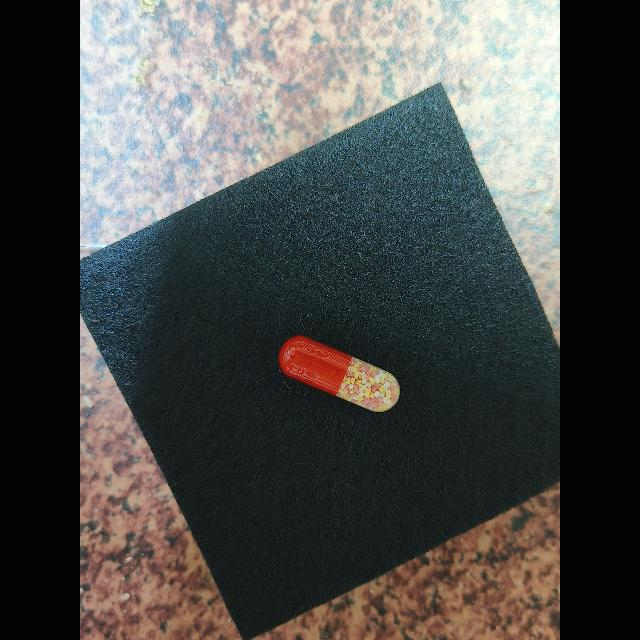Intact Capsule: (278, 335, 400, 412)
